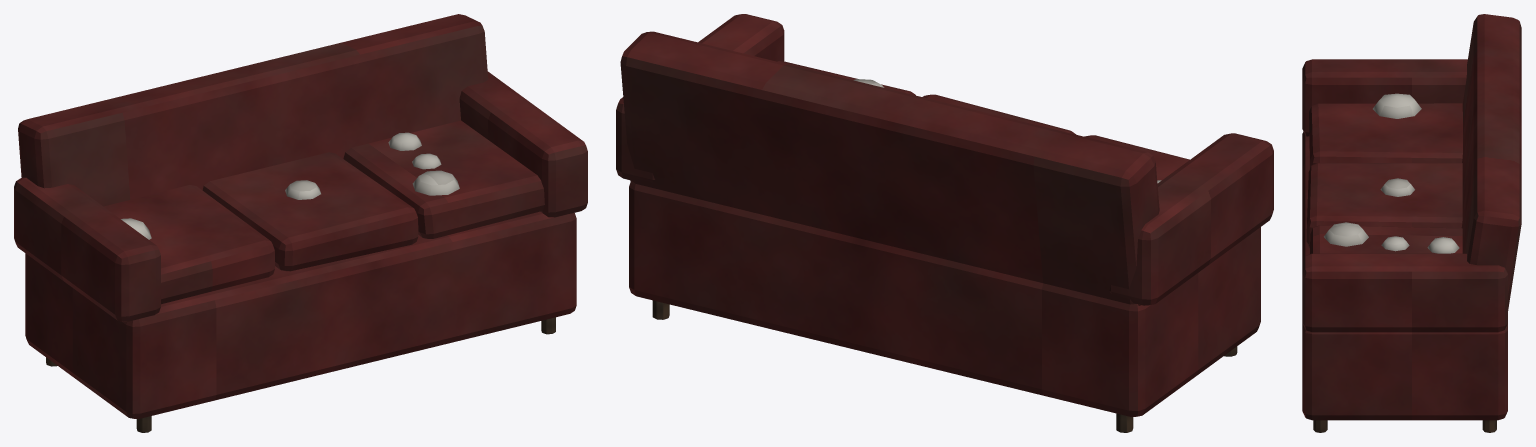
Rendered from BR11_ripped_sofa_v1.glb.
3 renders of one model, left to right at view 1: azimuth 30°, elevation 25°; view 2: azimuth 150°, elevation 25°; view 3: azimuth 270°, elevation 25°, orthographic. The views are drawn at different scales.
Visible parts, largest first — view 1: BR11_ripped_sofa_v1; view 2: BR11_ripped_sofa_v1; view 3: BR11_ripped_sofa_v1.
Part boxes in pixels (x1,y1,x2,y2): BR11_ripped_sofa_v1: (14, 14, 587, 432); BR11_ripped_sofa_v1: (616, 14, 1273, 432); BR11_ripped_sofa_v1: (1302, 14, 1521, 432).
Size of the model in its own units: 2 by 0.9816 by 0.8636.
Materials: 3 (3 with a texture image).
